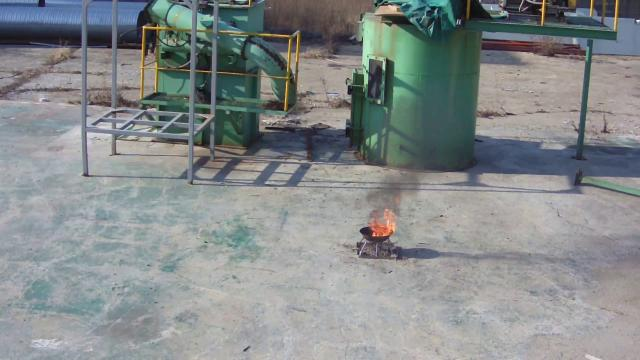fire: (370, 208, 394, 236)
smoke: (365, 172, 427, 218)
